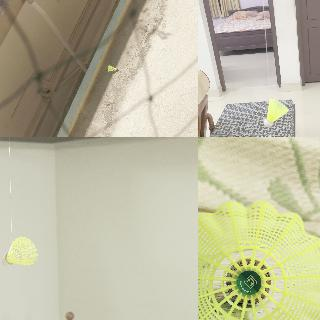shuttlecock: (198, 199, 319, 319), (1, 236, 37, 266), (263, 99, 287, 128), (108, 64, 116, 72)
